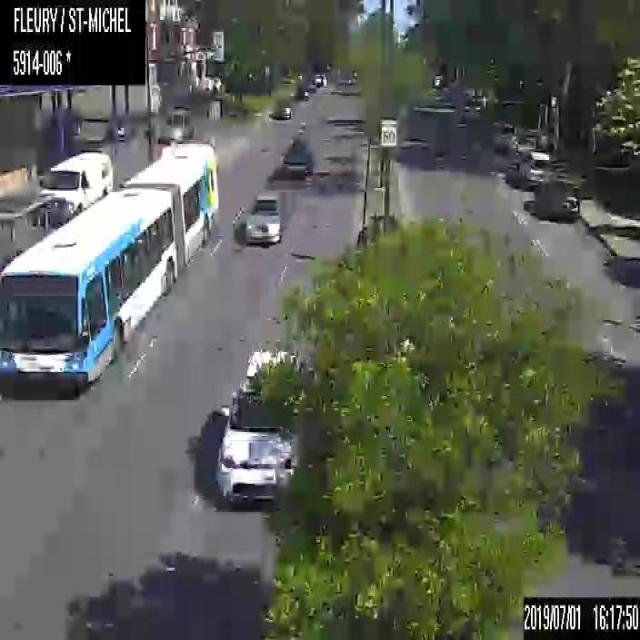bus: (0, 142, 220, 390)
vehicle: (216, 349, 299, 504), (39, 148, 113, 218), (244, 190, 284, 242), (532, 178, 579, 222), (279, 138, 312, 178), (519, 151, 552, 185), (289, 72, 327, 100), (269, 102, 293, 119)
